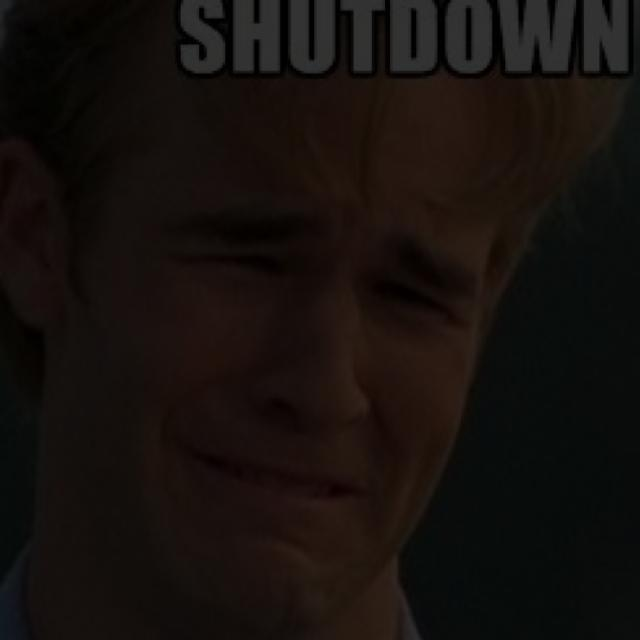Sad: (106, 122, 494, 590)
